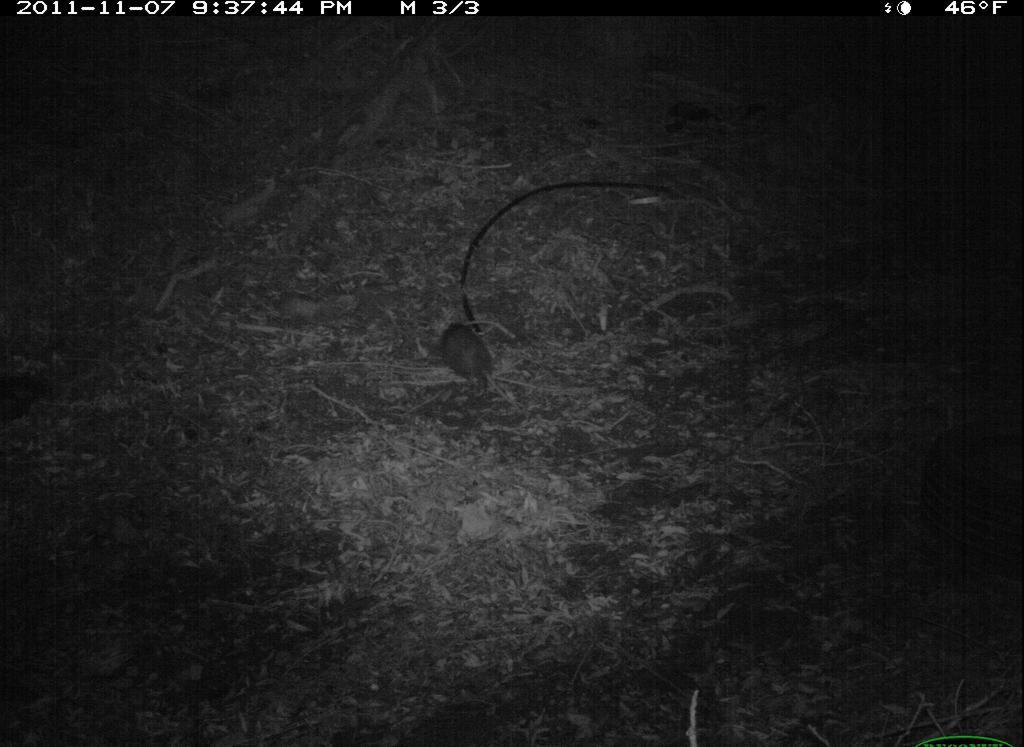opossum: (420, 308, 518, 423)
